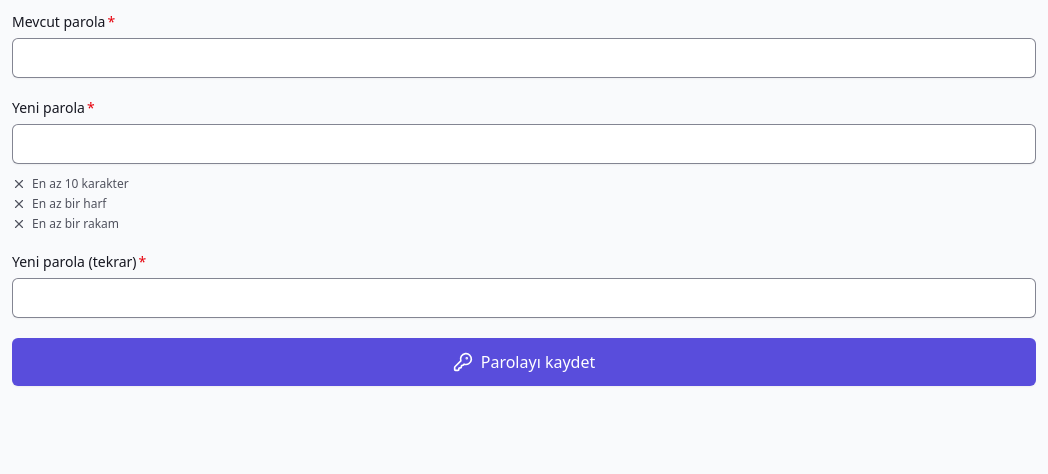
Test: ChangePasswordForm › reports a wrong current password and keeps what was typed
Type "yanlis-parola-1" into the password field labelled "Mevcut parola*".
click(524, 58); type("yanlis-parola-1")  # box left=12, top=38, right=1036, bottom=78
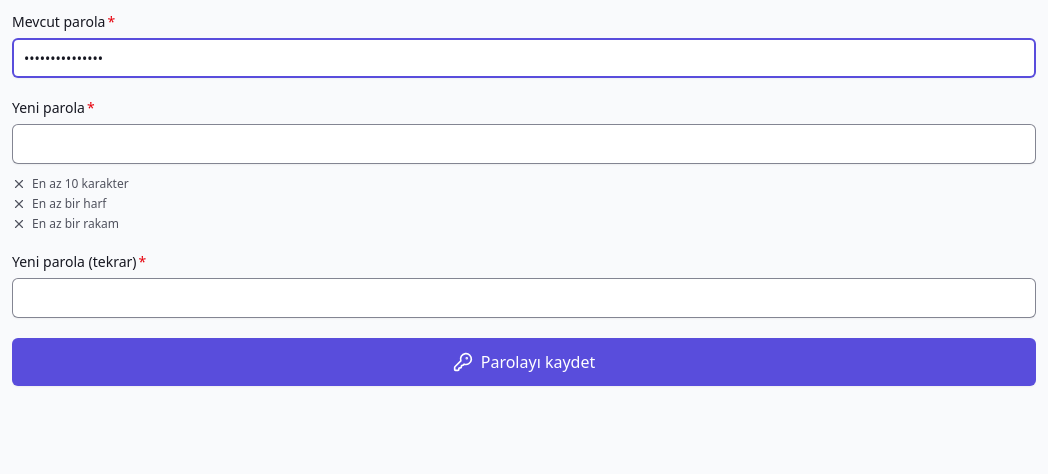
Type "Gunes.Isigi.2031" into the password field labelled "Yeni parola*".
click(524, 144); type("Gunes.Isigi.2031")  # box left=12, top=124, right=1036, bottom=164
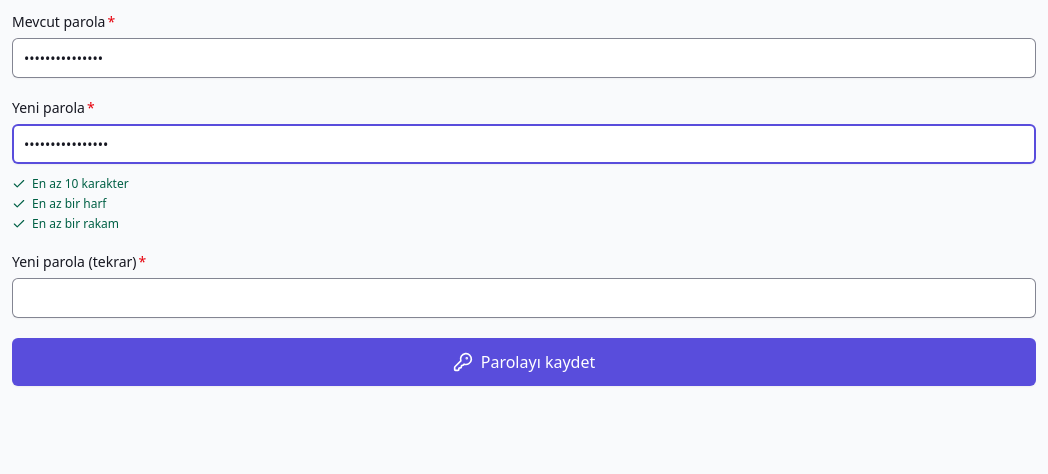
Type "Gunes.Isigi.2031" into the password field labelled "Yeni parola (tekrar)*".
click(524, 298); type("Gunes.Isigi.2031")  # box left=12, top=278, right=1036, bottom=318
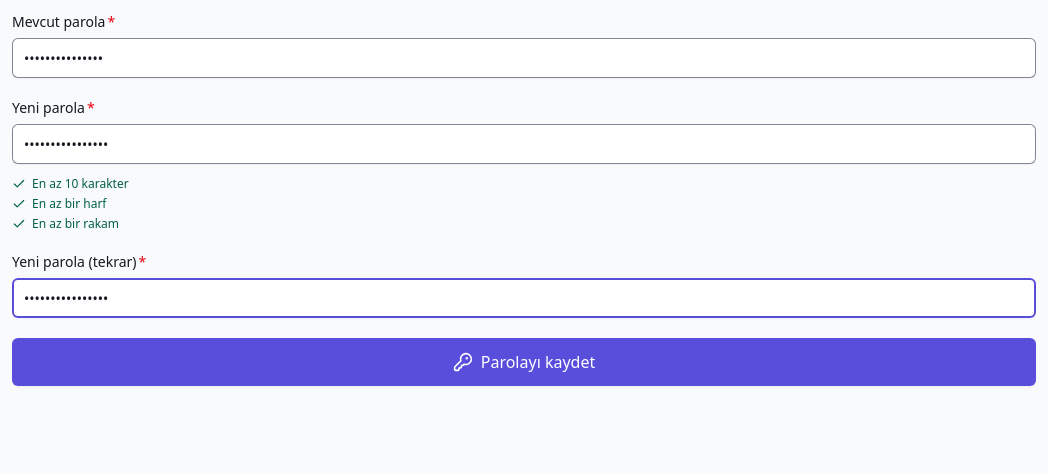
Click the button "Parolayı kaydet".
click(524, 362)  # box left=12, top=338, right=1036, bottom=386
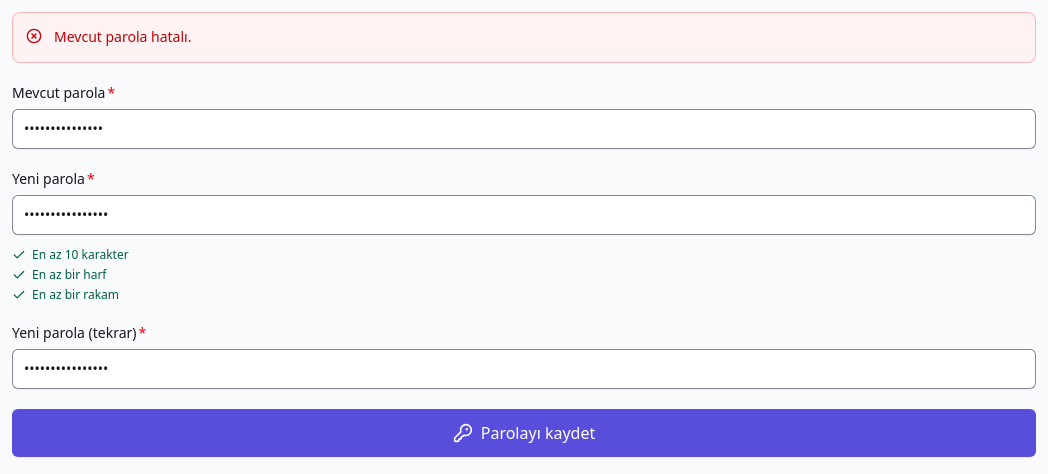
Check: the text "Mevcut parola hatalı." is shown, box left=54, top=27, right=191, bottom=46
